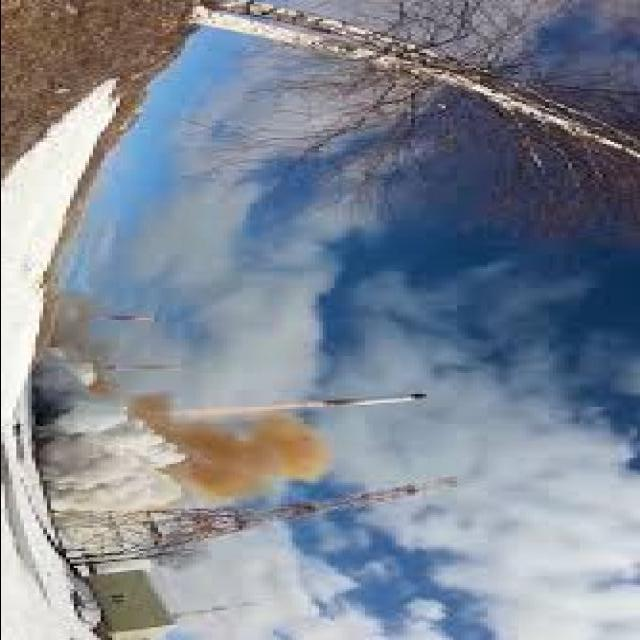Missile: (316, 392, 434, 412)
